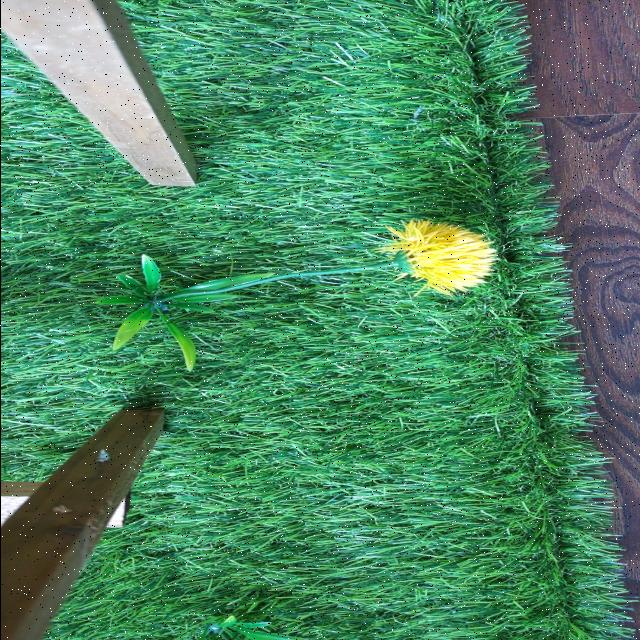base: (97, 256, 271, 371), (188, 618, 312, 640)
flower: (384, 222, 496, 294)
